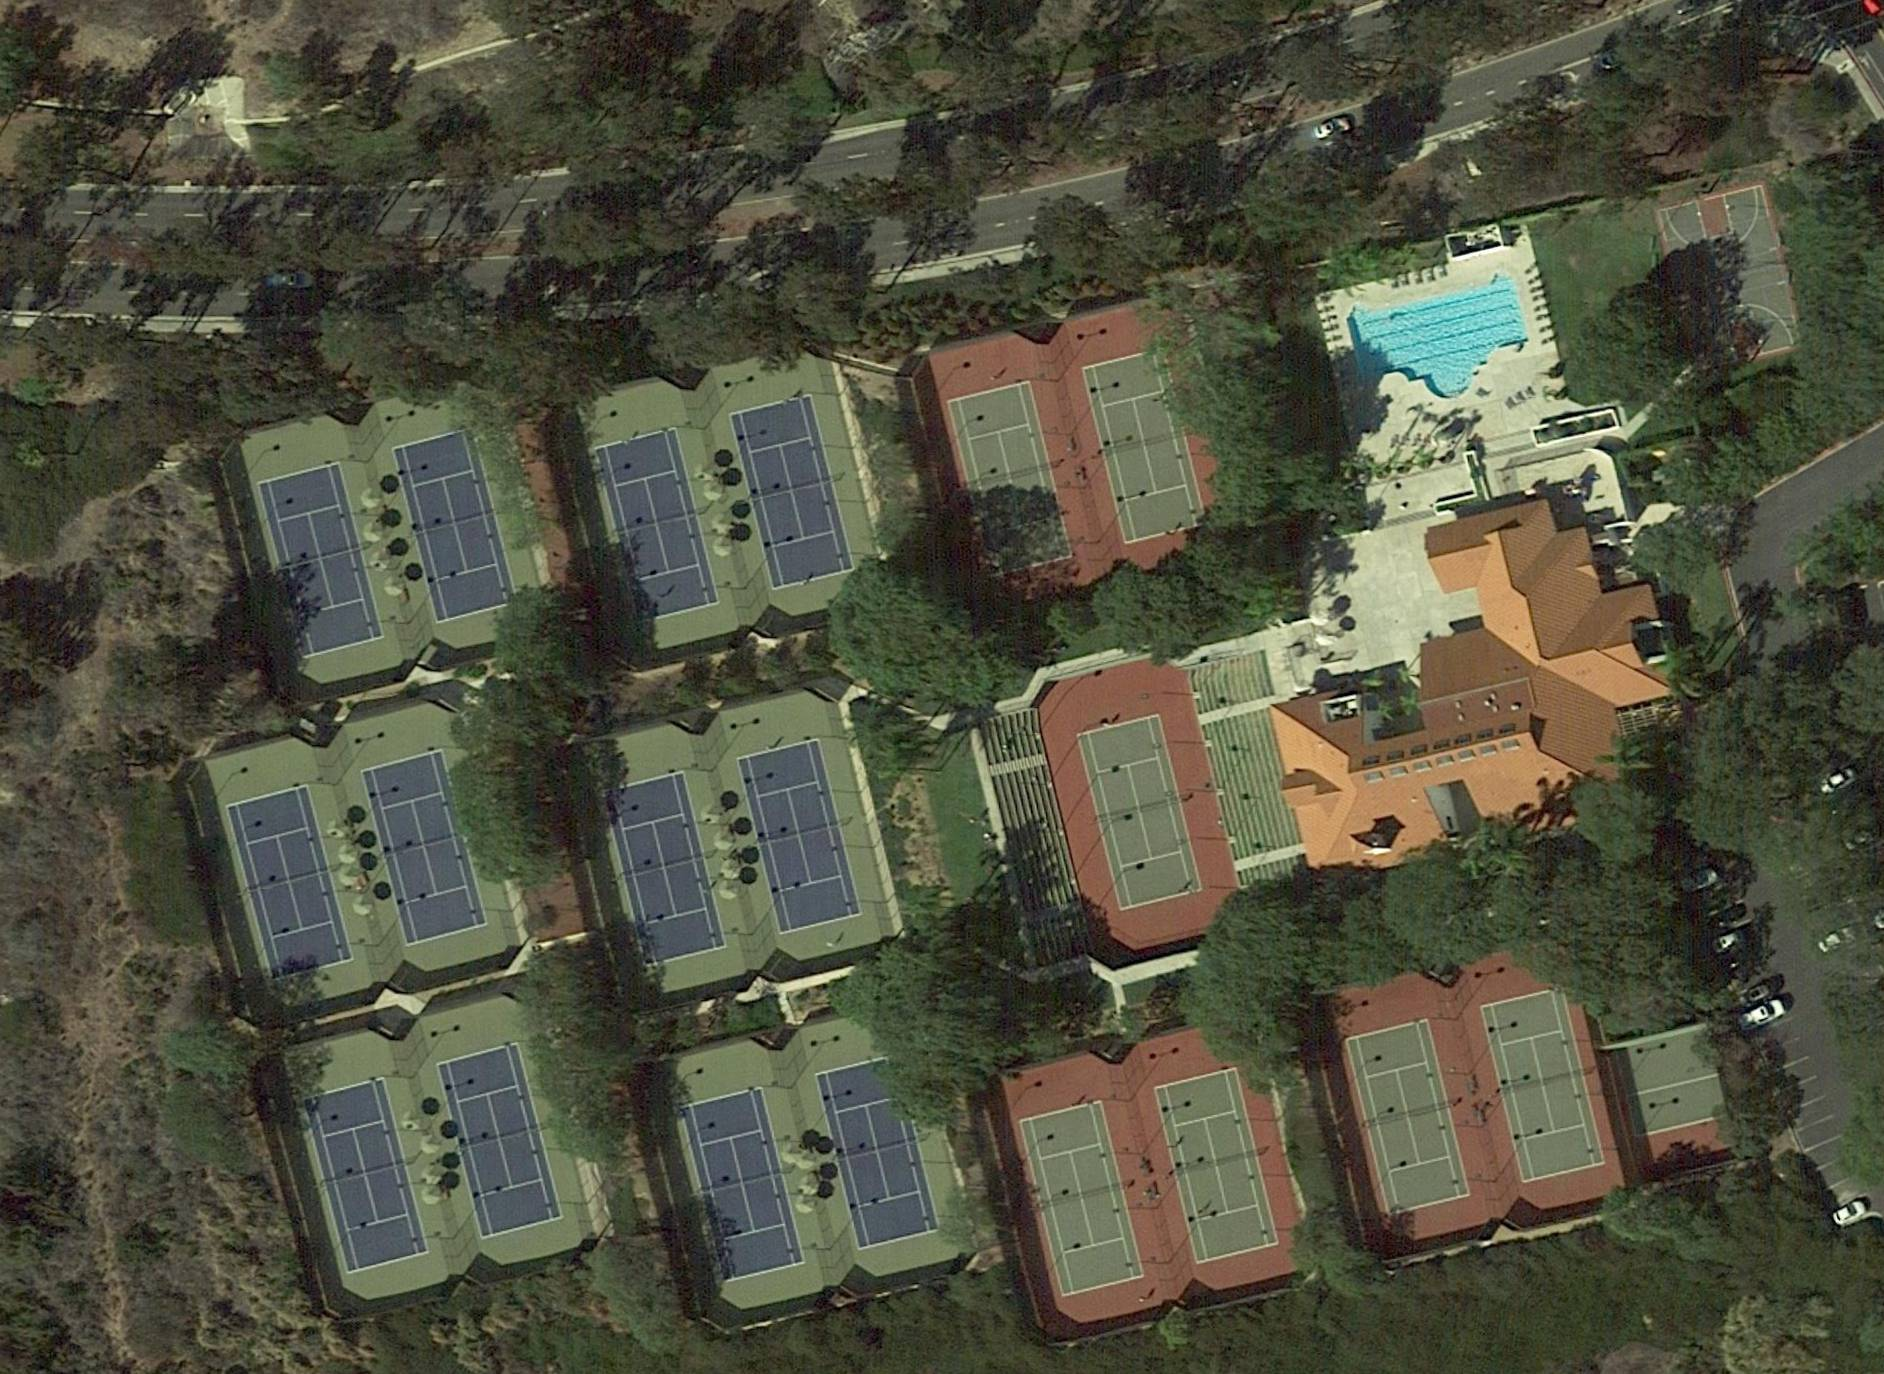basketball court: (1658, 186, 1804, 369)
small vehicle: (1736, 995, 1789, 1035), (1830, 1196, 1869, 1228)
swimming pool: (1343, 267, 1537, 417)
tennis court: (256, 460, 385, 659), (301, 1077, 430, 1275), (437, 1041, 563, 1241), (392, 427, 519, 625), (361, 750, 488, 947), (679, 1086, 806, 1283), (1082, 348, 1209, 545), (594, 427, 720, 625), (227, 785, 354, 981), (1078, 714, 1204, 911), (1480, 986, 1606, 1183), (814, 1055, 941, 1250), (1346, 1018, 1471, 1216), (737, 739, 863, 935), (729, 395, 855, 591), (1019, 1100, 1144, 1297), (948, 381, 1073, 577), (604, 771, 727, 968), (1156, 1068, 1278, 1264)
